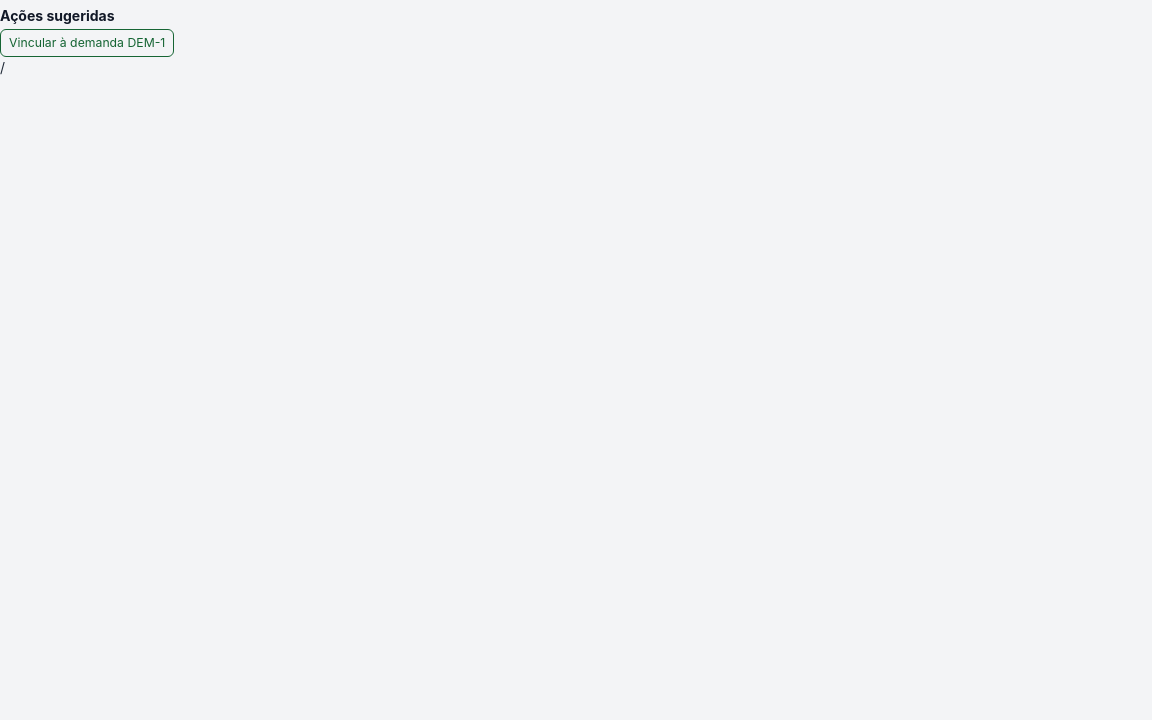
AcoesSugeridas › trata 409 ao vincular
The image size is (1152, 720).
Step 1. Click the button "Vincular à demanda DEM-1" → (87, 43), box [0,29,174,57]
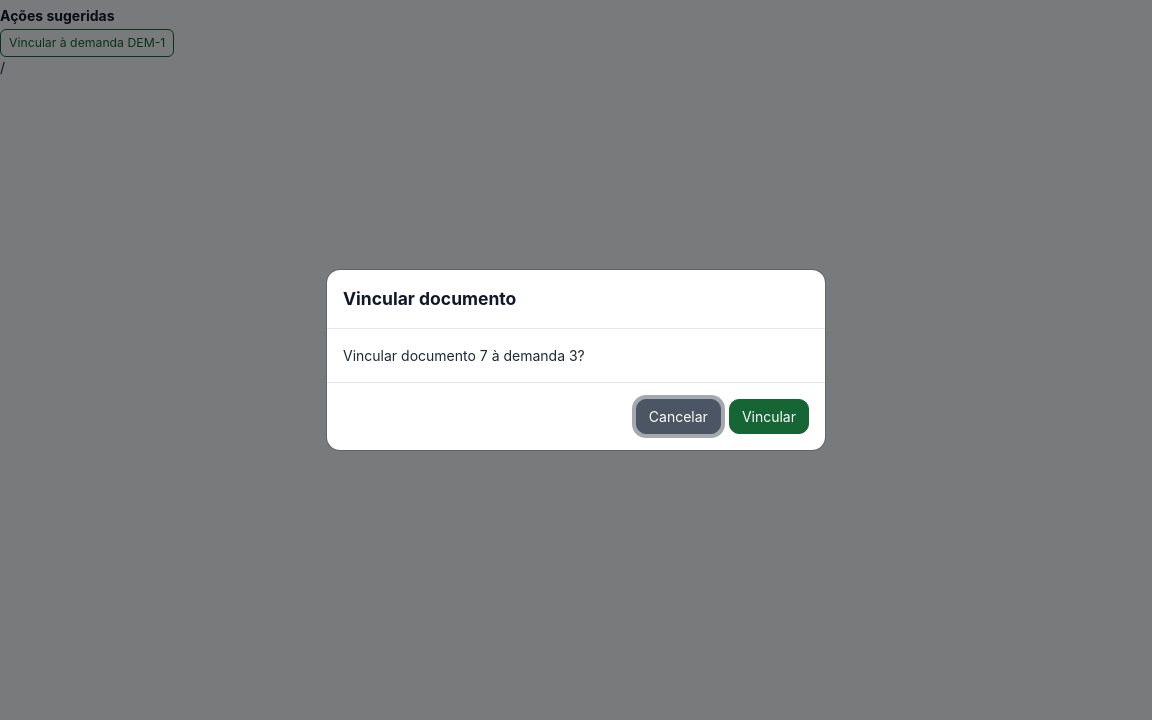
Step 2. Click the button "Vincular" → (769, 417), box [729,399,809,434]
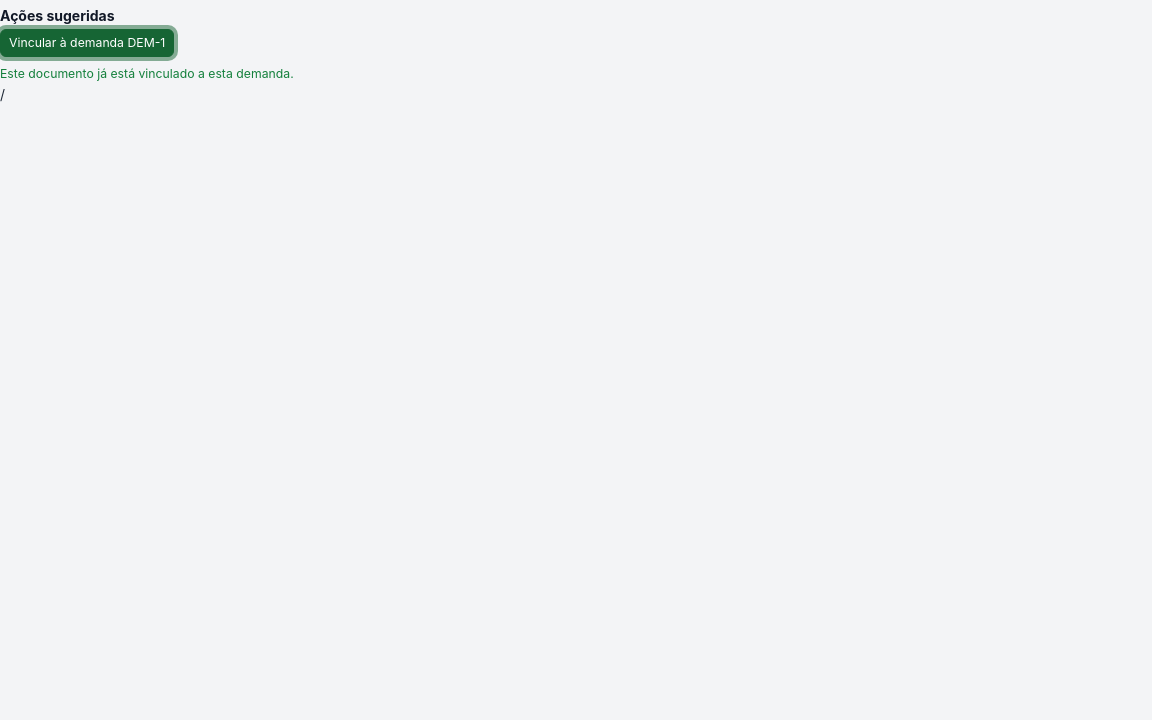
expect the message shows "já está vinculado": met, box [0,66,294,81]
